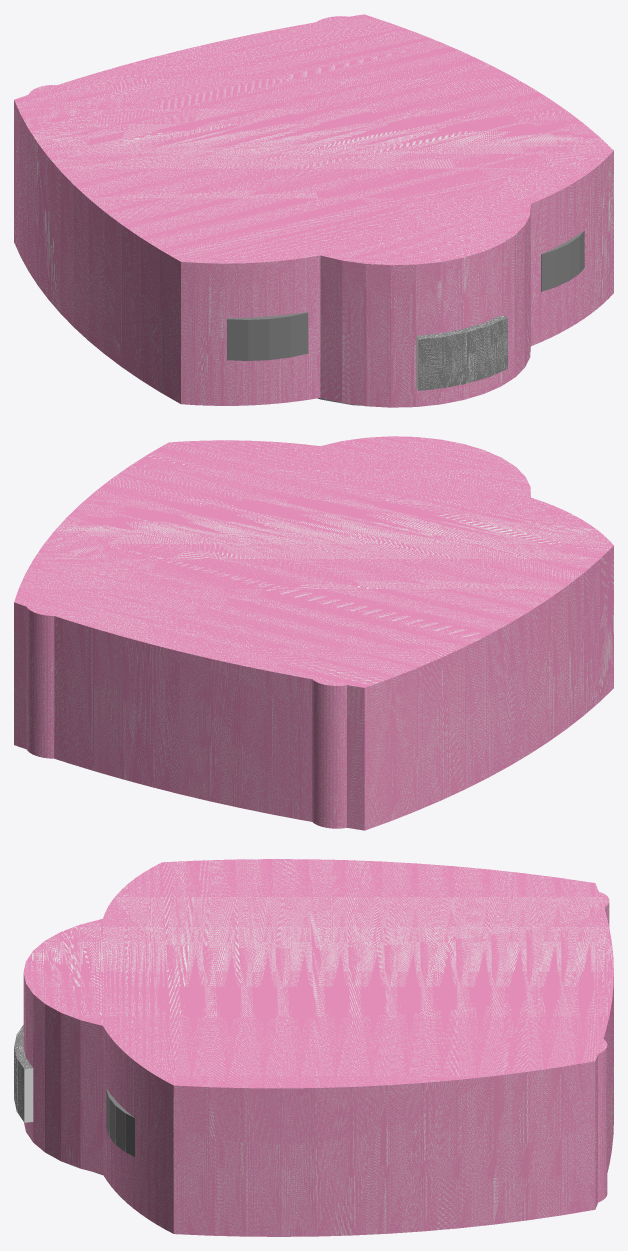
3 views of the same model, one above another, from view 1: azimuth 30°, elevation 25°; view 2: azimuth 150°, elevation 25°; view 3: azimuth 270°, elevation 25° (orthographic). The views are drawn at different scales.
Visible parts, largest first — view 1: barbie pink clock; view 2: barbie pink clock; view 3: barbie pink clock.
Part boxes in pixels (box(x1,y1,x2,y2)): barbie pink clock: box(14, 14, 613, 407); barbie pink clock: box(14, 436, 613, 830); barbie pink clock: box(14, 859, 613, 1236).
Size of the model in its own units: 382 by 121 by 423.
